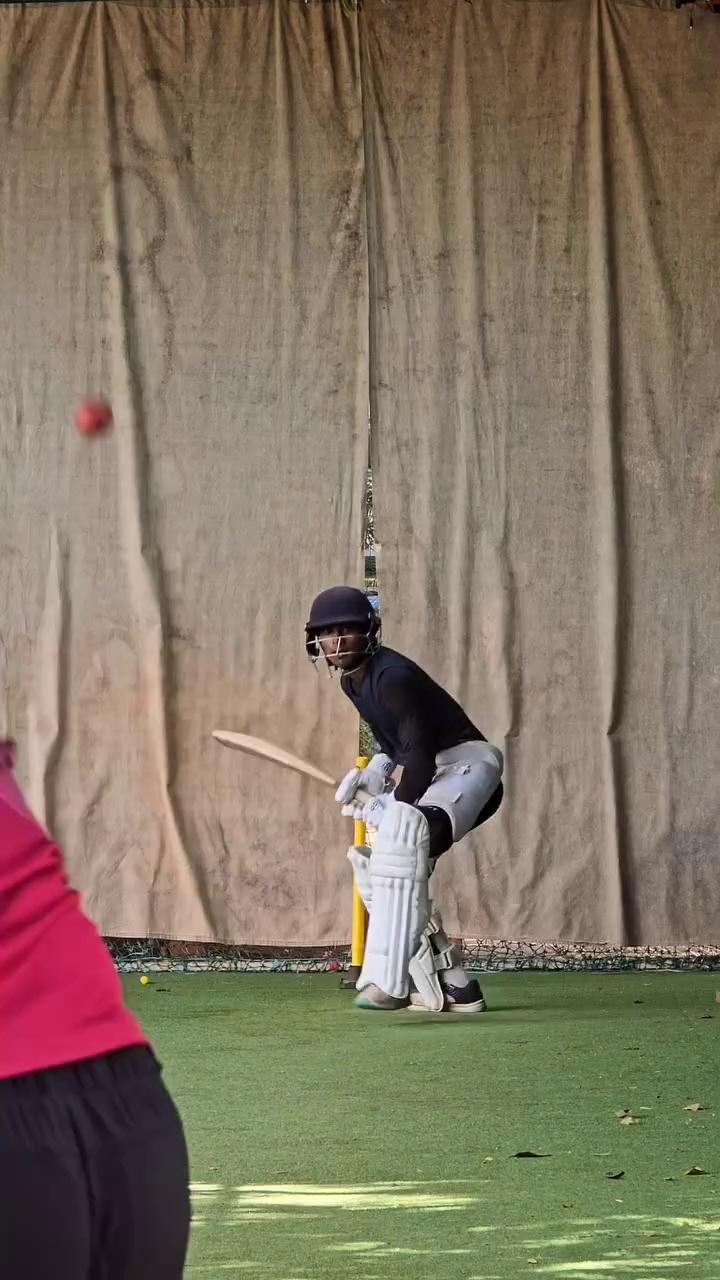bat: (203, 714, 343, 798)
